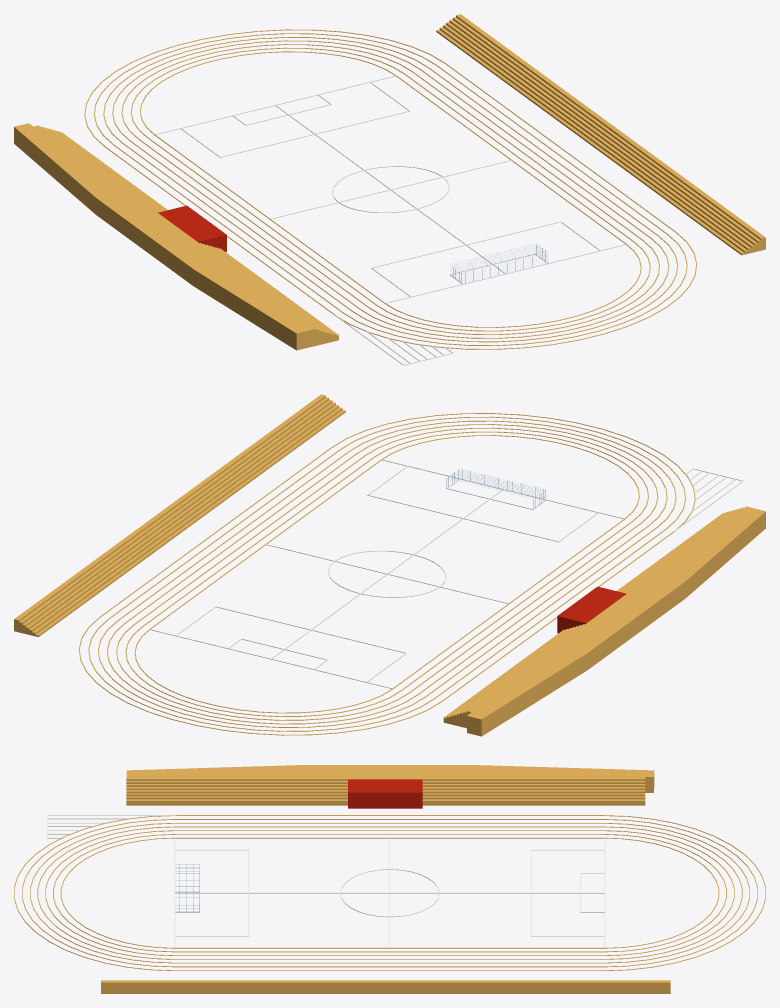
The picture shows the model from 3 angles, top to bottom: view 1: azimuth 30°, elevation 25°; view 2: azimuth 150°, elevation 25°; view 3: azimuth 270°, elevation 25°; orthographic projection. The views are drawn at different scales.
Parts seen in each view (by area): view 1: Arc06, Rectangle93, Rectangle94, Rectangle124, Line07, Rectangle132, Line01; view 2: Arc06, Rectangle93, Rectangle94, Rectangle124, Line07, Rectangle132, Rectangle38, Line01; view 3: Arc06, Rectangle124, Rectangle94, Rectangle93, Rectangle132, Line07, Line37, Line01, Rectangle38.
Part boxes in pixels (x1,y1,x2,y2): Arc06: (84,29,696,349); Rectangle93: (14,123,311,350); Rectangle94: (436,14,765,255); Rectangle124: (34,125,338,346); Line07: (155,75,626,303); Rectangle132: (158,205,226,251); Line01: (371,221,600,296); Arc06: (78,413,695,735); Rectangle93: (467,507,765,736); Rectangle94: (14,394,345,636); Rectangle124: (443,506,750,728); Line07: (150,459,624,688); Rectangle132: (557,586,626,633); Rectangle38: (446,469,545,509); Line01: (367,466,598,542); Arc06: (14,815,765,970); Rectangle124: (126,777,645,805); Rectangle94: (101,980,670,993); Rectangle93: (126,765,654,792); Rectangle132: (348,779,422,808); Line07: (174,838,605,947); Line37: (47,815,176,838); Line01: (175,849,249,936); Rectangle38: (175,864,199,912).
Size of the model in its own units: 11453 by 400 by 17106.
